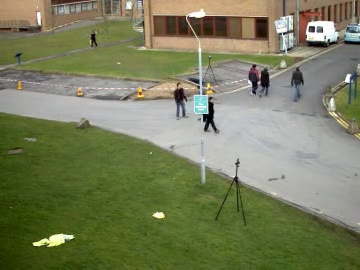person: (173, 81, 190, 120), (173, 82, 190, 120), (173, 83, 190, 120)
